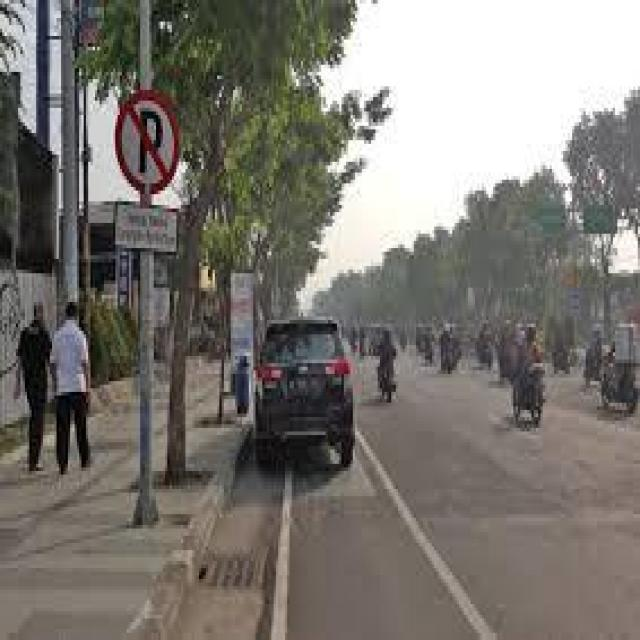traffic sign: (115, 94, 180, 191)
